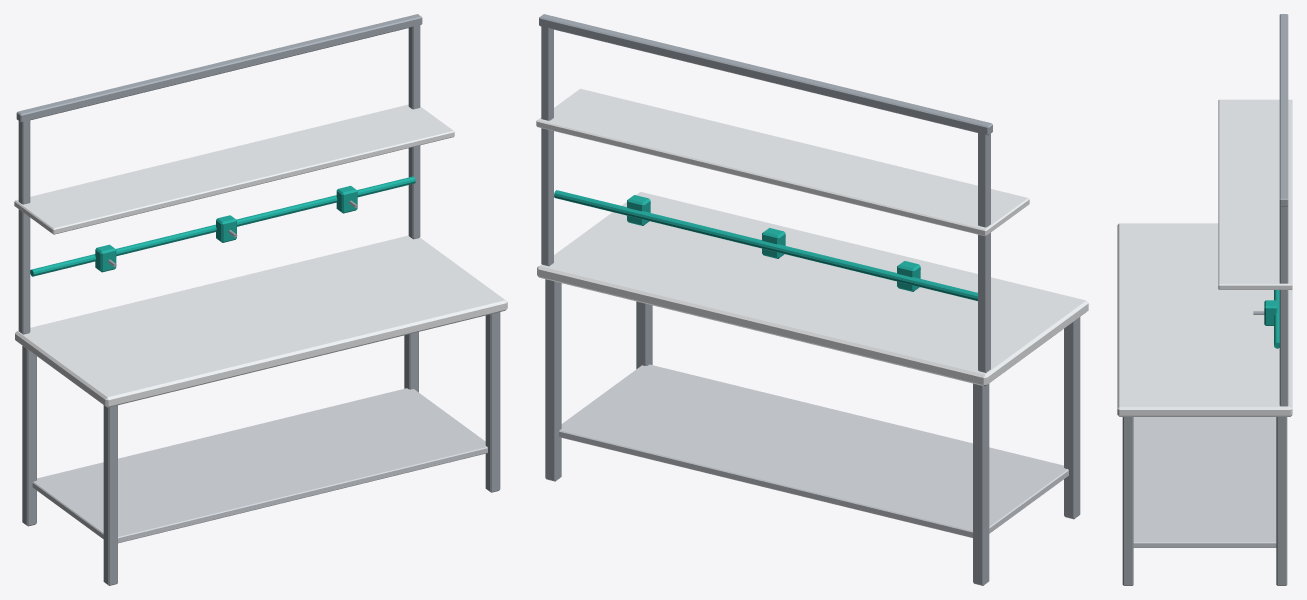
The model's file is lab-workbench.glb.
The picture shows the model from 3 angles, left to right: view 1: azimuth 30°, elevation 25°; view 2: azimuth 150°, elevation 25°; view 3: azimuth 270°, elevation 25°; orthographic projection. The views are drawn at different scales.
Parts seen in each view (by area): view 1: lab-workbench; view 2: lab-workbench; view 3: lab-workbench.
Part boxes in pixels (x1,y1,x2,y2): lab-workbench: (14, 14, 507, 585); lab-workbench: (536, 14, 1088, 585); lab-workbench: (1117, 14, 1292, 585).
Size of the model in its own units: 2 by 1.96 by 0.8.
